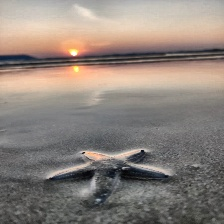starfish: (79, 149, 146, 163)
